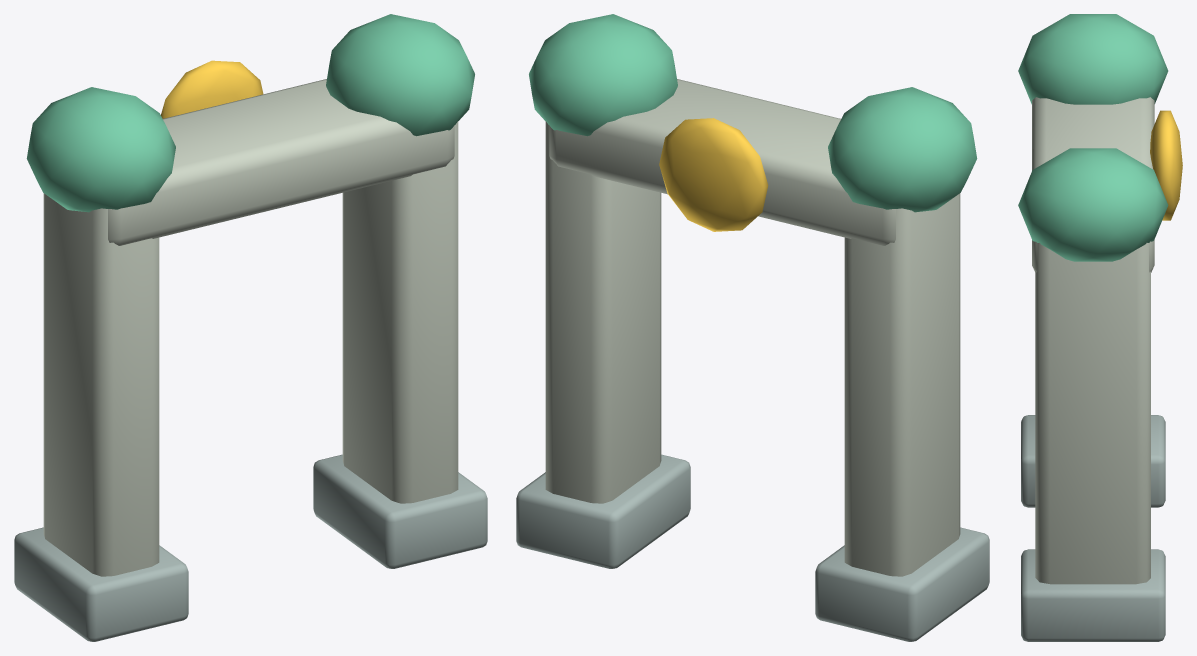
The model's file is Gate.fbx.
The picture shows the model from 3 angles, left to right: view 1: azimuth 30°, elevation 25°; view 2: azimuth 150°, elevation 25°; view 3: azimuth 270°, elevation 25°; orthographic projection. The views are drawn at different scales.
Visible parts, largest first — view 1: Pillar, Pillar.001, Lintel, LeafTop, LeafTop.001, PillarFoot.001, PillarFoot, SunEmblem; view 2: Pillar, Pillar.001, Lintel, LeafTop, LeafTop.001, PillarFoot.001, PillarFoot, SunEmblem; view 3: Pillar.001, LeafTop.001, LeafTop, PillarFoot.001, Lintel, PillarFoot, SunEmblem.
Part boxes in pixels (x1,y1,x2,y2): Pillar: (43,193,159,576); Pillar.001: (342,121,458,503); Lintel: (108,79,454,245); LeafTop: (26,87,175,212); LeafTop.001: (326,14,474,136); PillarFoot.001: (313,454,487,568); PillarFoot: (14,527,188,641); SunEmblem: (161,60,263,118); Pillar: (844,193,960,576); Pillar.001: (545,121,661,503); Lintel: (549,79,895,245); LeafTop: (828,87,977,212); LeafTop.001: (529,14,677,136); PillarFoot.001: (516,454,690,568); PillarFoot: (815,527,989,641); SunEmblem: (659,118,768,231); Pillar.001: (1035,243,1150,584); LeafTop.001: (1018,148,1168,261); LeafTop: (1018,14,1168,104); PillarFoot.001: (1021,549,1165,641); Lintel: (1032,97,1154,272); PillarFoot: (1021,415,1165,507); SunEmblem: (1150,110,1182,220).
Bounding box in the file's own units: 3.11 × 3.58 × 1.14.
